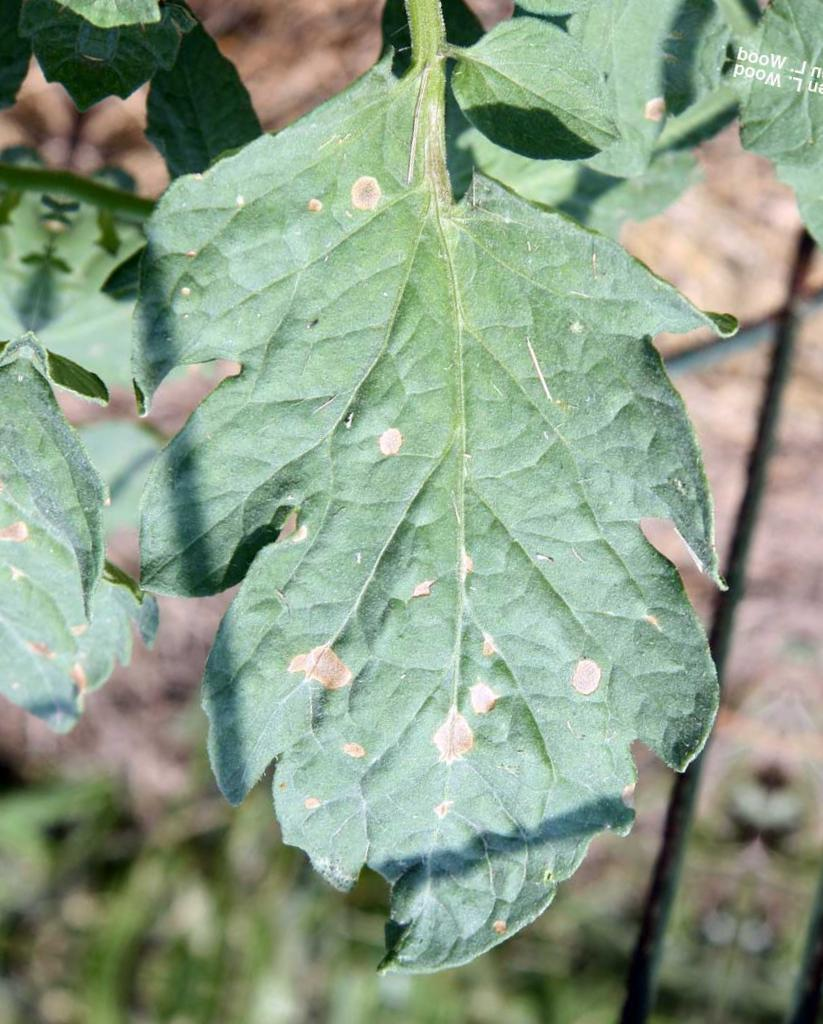Tomato leaf bacterial spot: (0, 4, 823, 1024)
